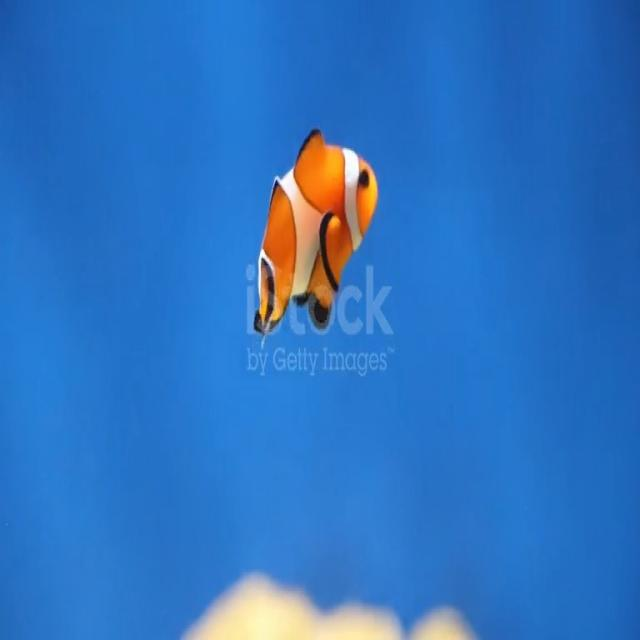fish: (248, 106, 384, 338)
